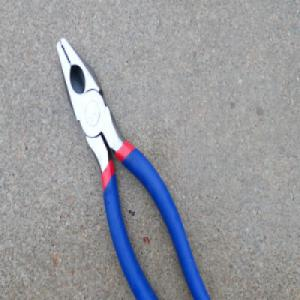Pliers: (54, 33, 213, 300)
